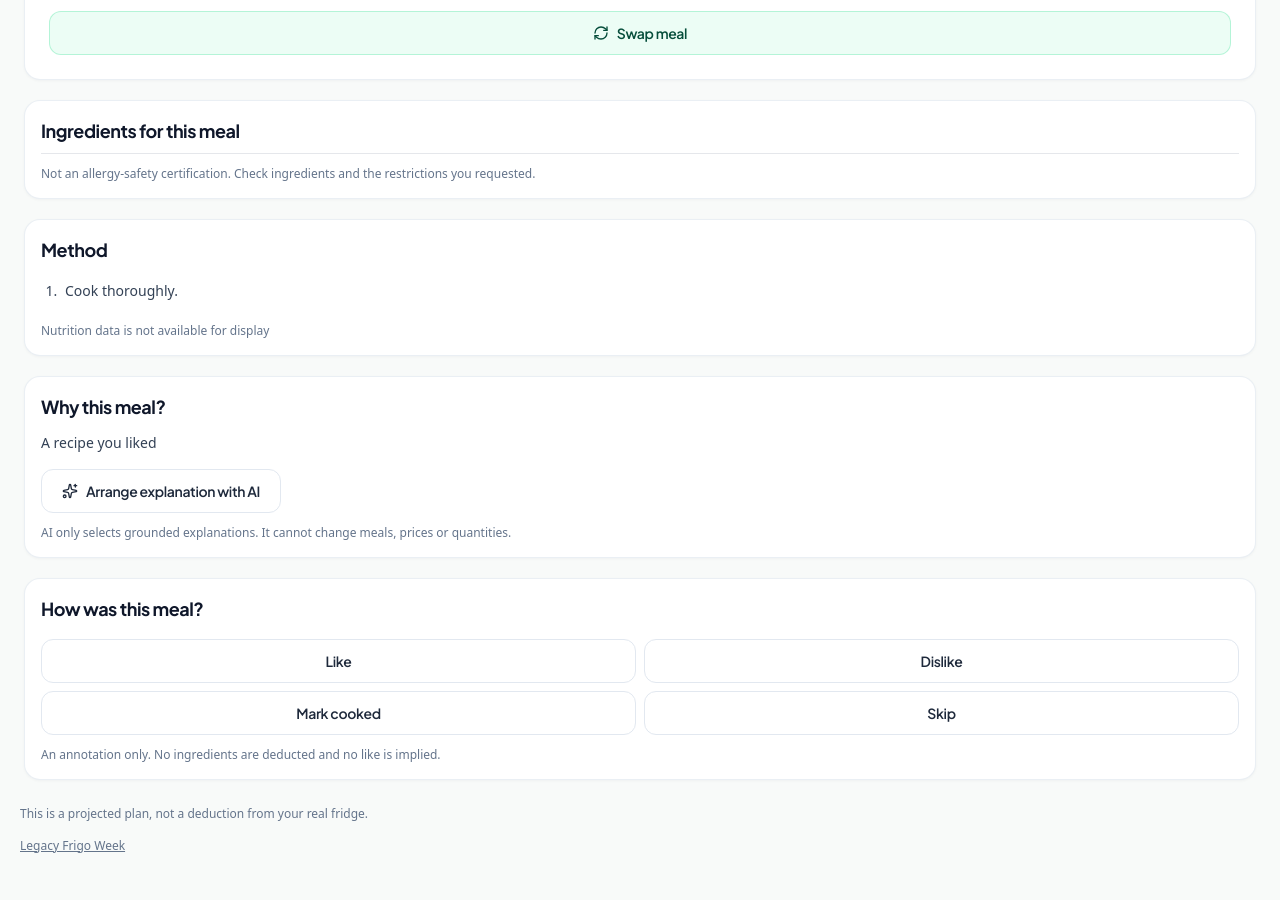
it: mounted planner mutation interactions › records disliked through a revision-fenced receipt without claiming inventory mutation
The image size is (1280, 900).
(page scrolled)
Click the button "Dislike": click(942, 661) [644,639,1239,683]
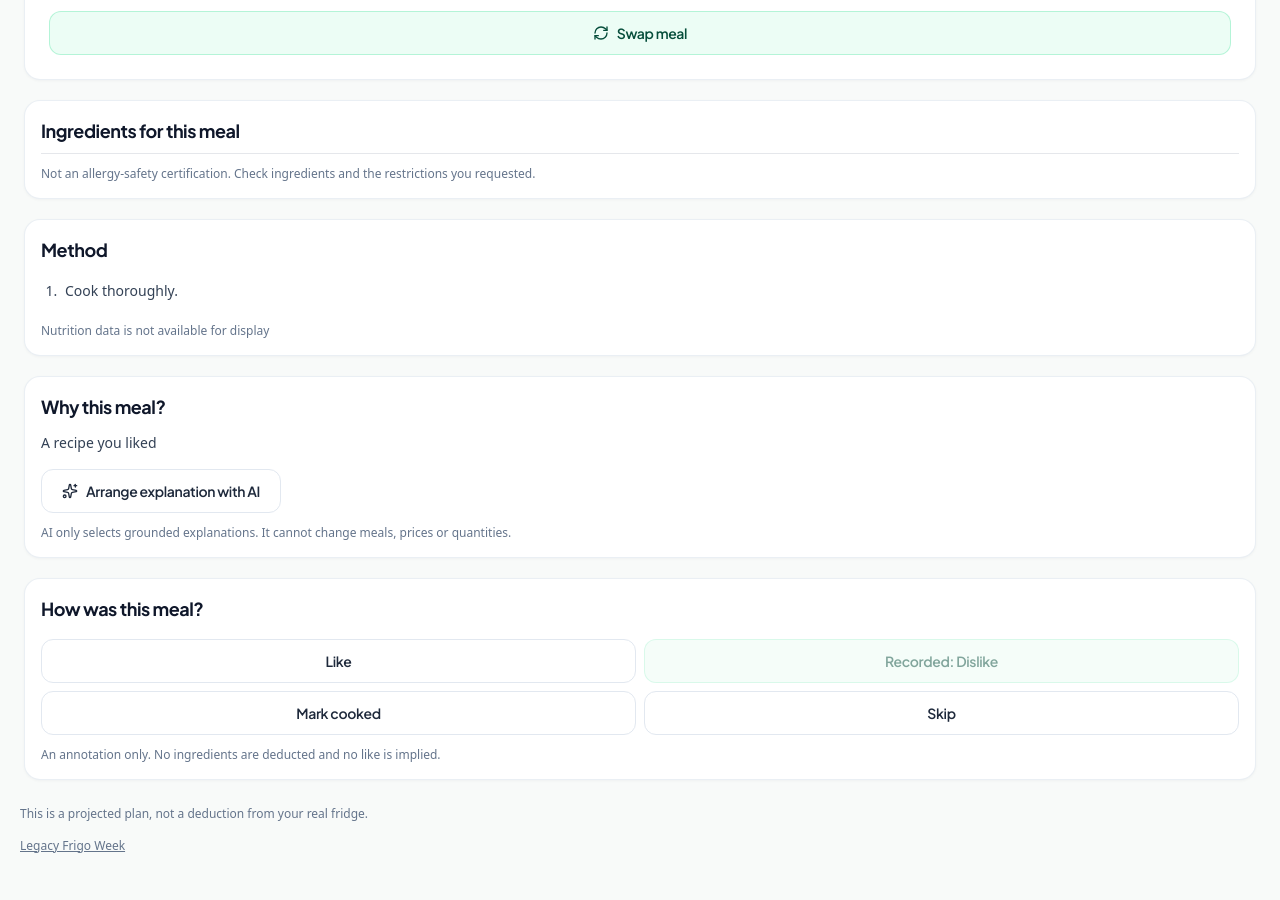
Check: the text "An annotation only. No ingredients are deducted" is shown, box [41,746,441,763]
Check: the button "Recorded: Dislike" is disabled, box [644,639,1239,683]
